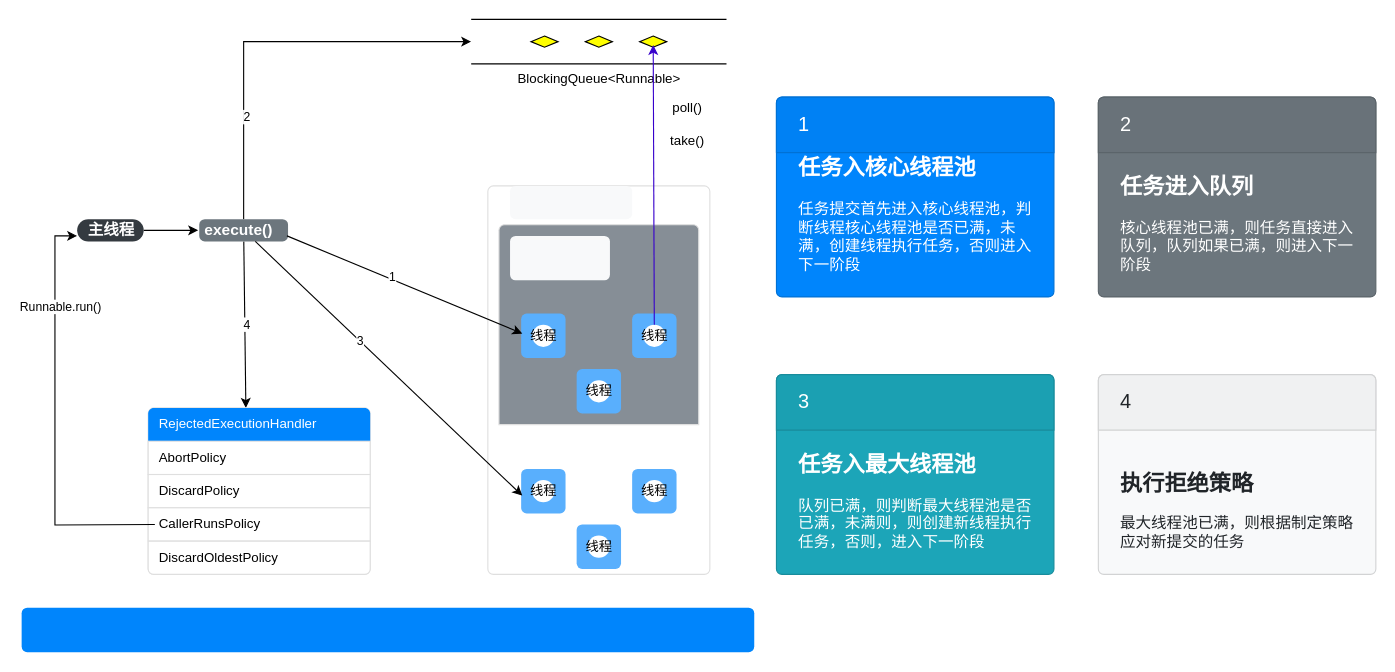
The diagram is 1395 pixels wide and 672 high, and some of its shapes have lost their labels. The box of each missing label's shape, as (x1, y1, x2, y2) in pixels:
corePool: (509, 235, 609, 280)
maximumPool: (509, 185, 632, 219)
TreadPoolExecutor执行示意图: (21, 607, 754, 652)
